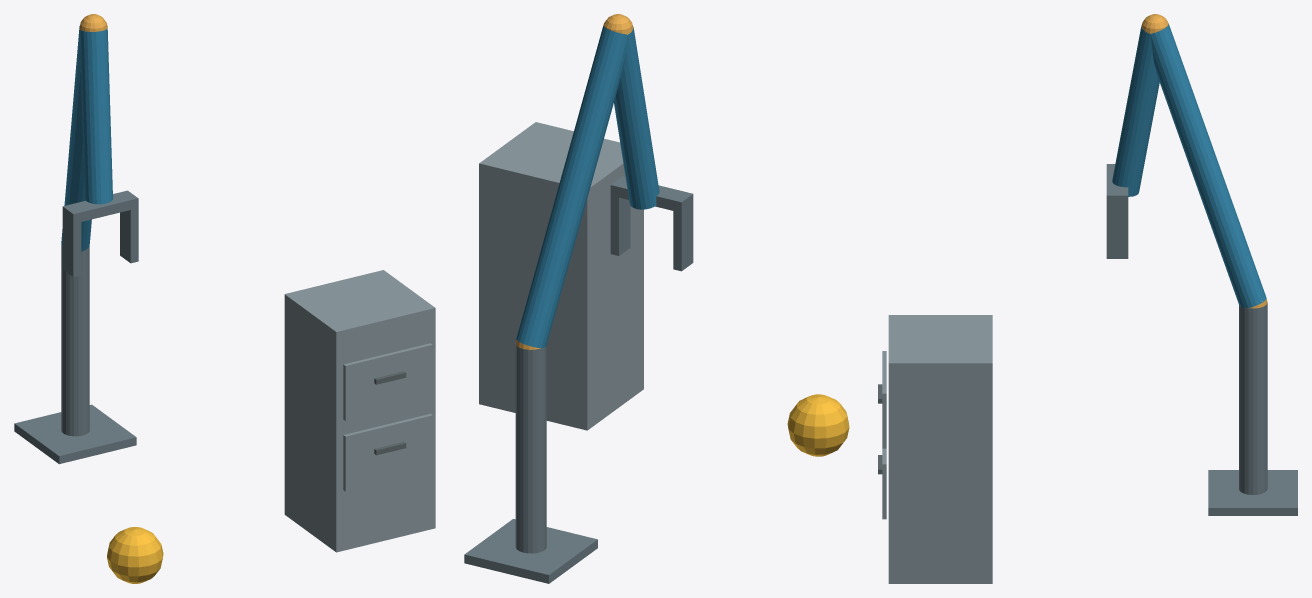
3 renders of one model, left to right at view 1: azimuth 30°, elevation 25°; view 2: azimuth 150°, elevation 25°; view 3: azimuth 270°, elevation 25°, orthographic. The views are drawn at different scales.
Visible parts, largest first — view 1: cabinet_1 body, cabinet_1 drawer front.001, cabinet_1 drawer front, moving link 2, fixed post, pedestal, ball ball_1, moving link 1, gripper bridge, gripper finger -1, gripper finger 1; view 2: cabinet_1 body, moving link 1, fixed post, moving link 2, pedestal, ball ball_1, gripper finger -1, gripper finger 1, gripper bridge; view 3: cabinet_1 body, moving link 1, fixed post, moving link 2, pedestal, gripper finger 1, gripper bridge.
Boxes of the visible parts, bbox=[...] form: cabinet_1 body: bbox=[284, 270, 435, 552]; cabinet_1 drawer front.001: bbox=[343, 343, 432, 420]; cabinet_1 drawer front: bbox=[343, 414, 432, 491]; moving link 2: bbox=[79, 28, 112, 204]; fixed post: bbox=[61, 245, 89, 436]; pedestal: bbox=[14, 404, 136, 464]; ball ball_1: bbox=[107, 527, 163, 583]; moving link 1: bbox=[61, 25, 91, 251]; gripper bridge: bbox=[62, 190, 138, 223]; gripper finger -1: bbox=[62, 216, 81, 277]; gripper finger 1: bbox=[120, 208, 138, 263]; cabinet_1 body: bbox=[479, 122, 643, 430]; moving link 1: bbox=[516, 26, 627, 348]; fixed post: bbox=[515, 343, 546, 553]; moving link 2: bbox=[614, 26, 659, 209]; pedestal: bbox=[464, 519, 597, 583]; ball ball_1: bbox=[787, 394, 849, 456]; gripper finger -1: bbox=[673, 205, 693, 271]; gripper finger 1: bbox=[610, 196, 630, 255]; gripper bridge: bbox=[610, 176, 693, 212]; cabinet_1 body: bbox=[888, 315, 992, 583]; moving link 1: bbox=[1150, 24, 1266, 308]; fixed post: bbox=[1239, 303, 1267, 494]; moving link 2: bbox=[1112, 26, 1159, 196]; pedestal: bbox=[1208, 470, 1297, 515]; gripper finger 1: bbox=[1106, 205, 1128, 258]; gripper bridge: bbox=[1106, 164, 1128, 205].
Size of the model in its own units: 0.9825 by 1.44 by 1.17.
